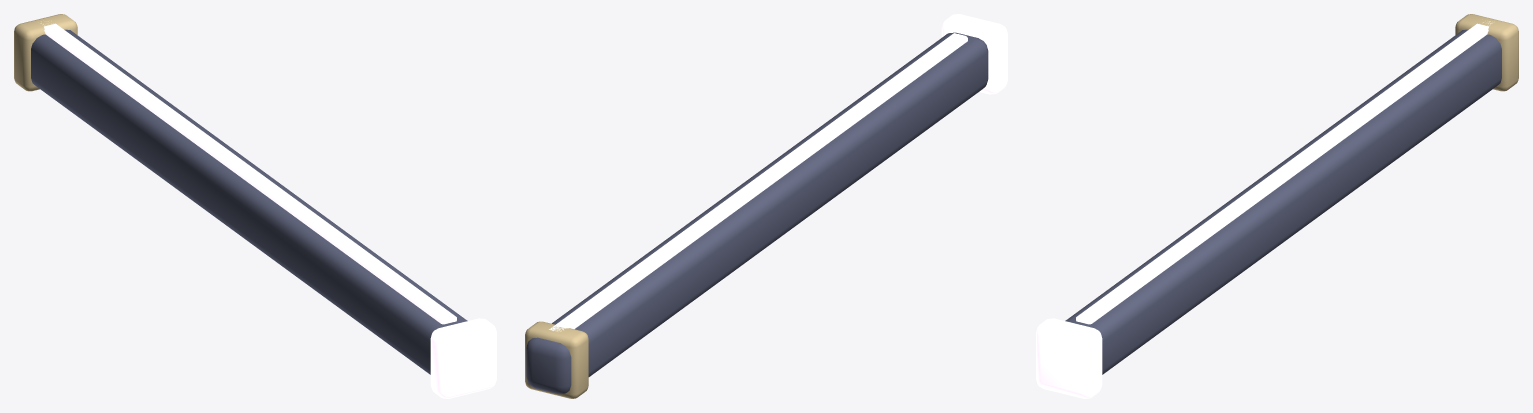
File: RotorArm3.fbx
3 views of the same model, side by side, from view 1: azimuth 30°, elevation 25°; view 2: azimuth 150°, elevation 25°; view 3: azimuth 330°, elevation 25° (orthographic).
Visible parts, largest first — view 1: Bar, Strip, Tip, Collar; view 2: Bar, Strip, Tip, Collar; view 3: Bar, Strip, Tip, Collar.
Boxes of the visible parts, <box> form: Bar: <box>31,29,467,374</box>; Strip: <box>40,21,456,324</box>; Tip: <box>430,318,496,398</box>; Collar: <box>14,14,77,91</box>; Bar: <box>526,32,988,394</box>; Strip: <box>549,33,967,331</box>; Tip: <box>941,14,1007,94</box>; Collar: <box>525,321,588,398</box>; Bar: <box>1065,29,1501,374</box>; Strip: <box>1076,21,1492,324</box>; Tip: <box>1036,318,1102,398</box>; Collar: <box>1455,14,1518,91</box>.
Bounding box in the file's own units: 0.26 × 0.28 × 3.39.
